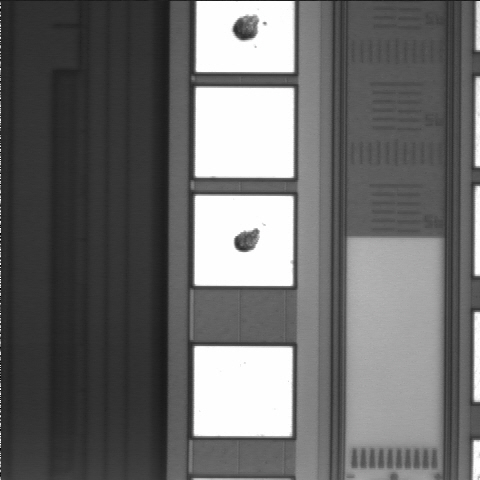pad: (195, 88, 294, 178), (195, 196, 293, 286), (194, 346, 292, 436)
